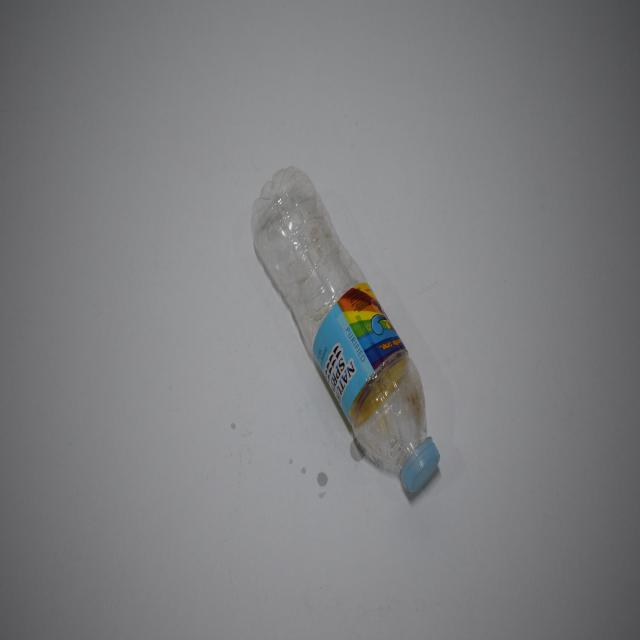bottle: (247, 155, 468, 505)
